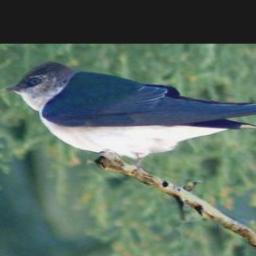Swallow: (1, 60, 256, 178)
